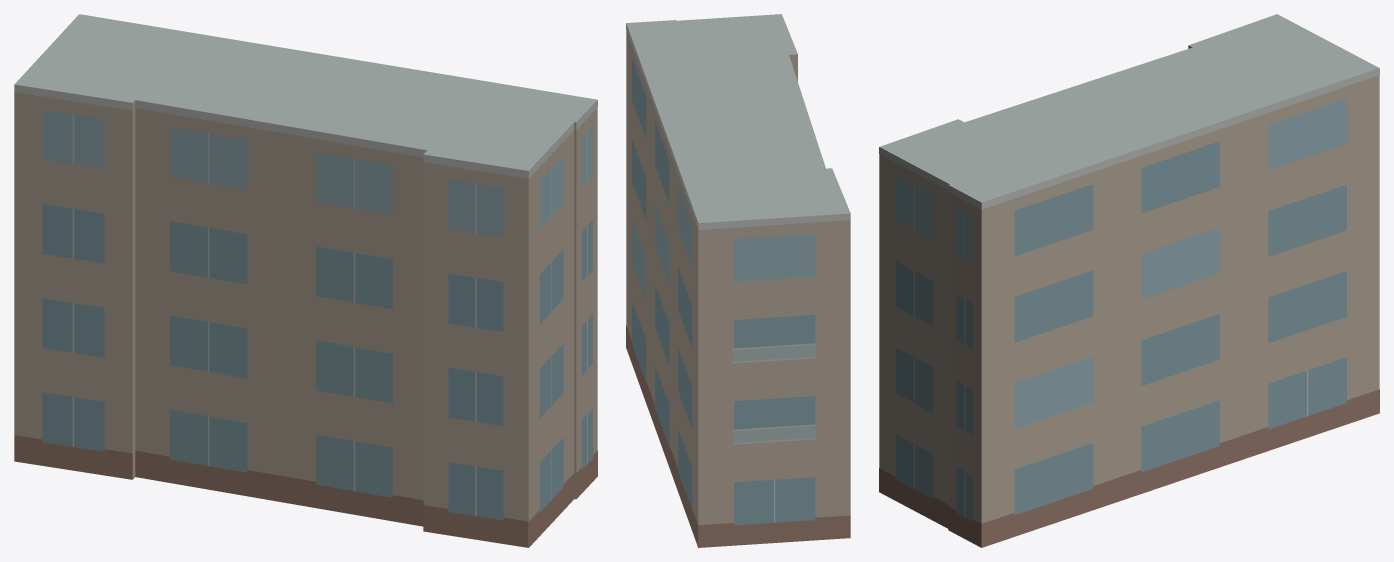
File: survey-upis-32899546.glb
The picture shows the model from 3 angles, left to right: view 1: azimuth 30°, elevation 25°; view 2: azimuth 150°, elevation 25°; view 3: azimuth 270°, elevation 25°; orthographic projection. The views are drawn at different scales.
Visible parts, largest first — view 1: survey-upis-32899546.tmp; view 2: survey-upis-32899546.tmp; view 3: survey-upis-32899546.tmp.
Part boxes in pixels (left/top/right/bottom): survey-upis-32899546.tmp: left=14, top=14, right=597, bottom=547; survey-upis-32899546.tmp: left=626, top=14, right=850, bottom=547; survey-upis-32899546.tmp: left=879, top=14, right=1379, bottom=547.
Bounding box in the file's own units: 13.84 × 11.8 × 15.51.
